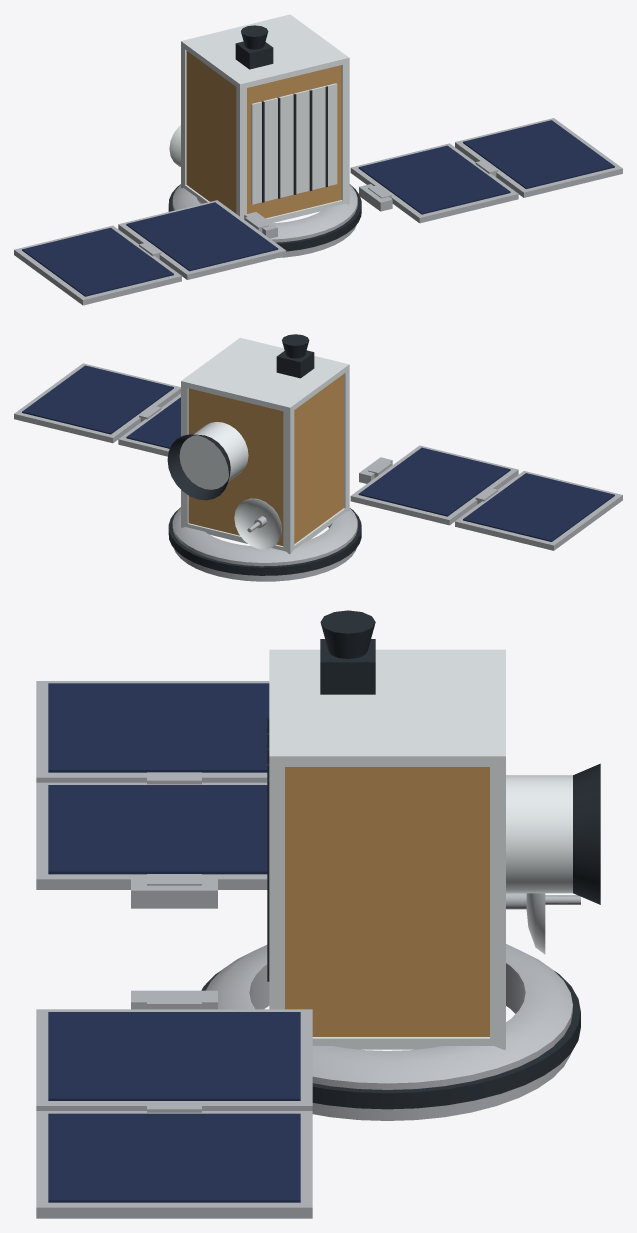
The model's file is satpwr_deployable_solar_wings.fbx.
3 renders of one model, top to bottom at view 1: azimuth 30°, elevation 25°; view 2: azimuth 150°, elevation 25°; view 3: azimuth 270°, elevation 25°, orthographic. The views are drawn at different scales.
Parts seen in each view (by area): view 1: satpwr_deployable_solar_wings_LOD0, satpwr_deployable_solar_wings_wing_r_LOD0, satpwr_deployable_solar_wings_wing_l_LOD0, satpwr_deployable_solar_wings_wing_l_outer_LOD0, satpwr_deployable_solar_wings_wing_r_outer_LOD0; view 2: satpwr_deployable_solar_wings_LOD0, satpwr_deployable_solar_wings_wing_l_LOD0, satpwr_deployable_solar_wings_wing_l_outer_LOD0, satpwr_deployable_solar_wings_wing_r_outer_LOD0, satpwr_deployable_solar_wings_wing_r_LOD0; view 3: satpwr_deployable_solar_wings_LOD0, satpwr_deployable_solar_wings_wing_r_outer_LOD0, satpwr_deployable_solar_wings_wing_r_LOD0, satpwr_deployable_solar_wings_wing_l_LOD0, satpwr_deployable_solar_wings_wing_l_outer_LOD0.
Boxes of the visible parts, box(x1,y1,x2,y2) form: satpwr_deployable_solar_wings_LOD0: box(168, 14, 361, 257); satpwr_deployable_solar_wings_wing_r_LOD0: box(350, 143, 518, 223); satpwr_deployable_solar_wings_wing_l_LOD0: box(118, 200, 286, 279); satpwr_deployable_solar_wings_wing_l_outer_LOD0: box(14, 225, 181, 305); satpwr_deployable_solar_wings_wing_r_outer_LOD0: box(455, 118, 622, 197); satpwr_deployable_solar_wings_LOD0: box(167, 334, 361, 581); satpwr_deployable_solar_wings_wing_l_LOD0: box(350, 445, 518, 525); satpwr_deployable_solar_wings_wing_l_outer_LOD0: box(455, 471, 622, 550); satpwr_deployable_solar_wings_wing_r_outer_LOD0: box(14, 363, 180, 443); satpwr_deployable_solar_wings_wing_r_LOD0: box(118, 393, 180, 456); satpwr_deployable_solar_wings_LOD0: box(201, 610, 600, 1120); satpwr_deployable_solar_wings_wing_r_outer_LOD0: box(36, 1101, 312, 1218); satpwr_deployable_solar_wings_wing_r_LOD0: box(36, 990, 312, 1110); satpwr_deployable_solar_wings_wing_l_LOD0: box(36, 782, 267, 908); satpwr_deployable_solar_wings_wing_l_outer_LOD0: box(36, 681, 269, 784).
Size of what is drawn, in the model's own units: 3.16 by 1.12 by 1.43.
